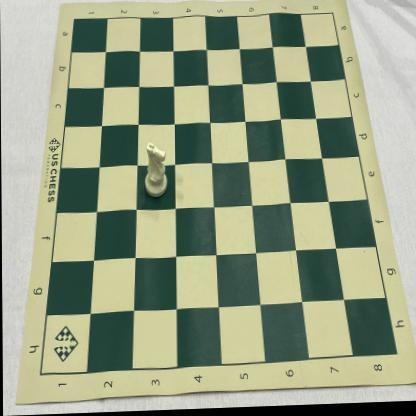white-knight: (144, 142, 168, 200)
